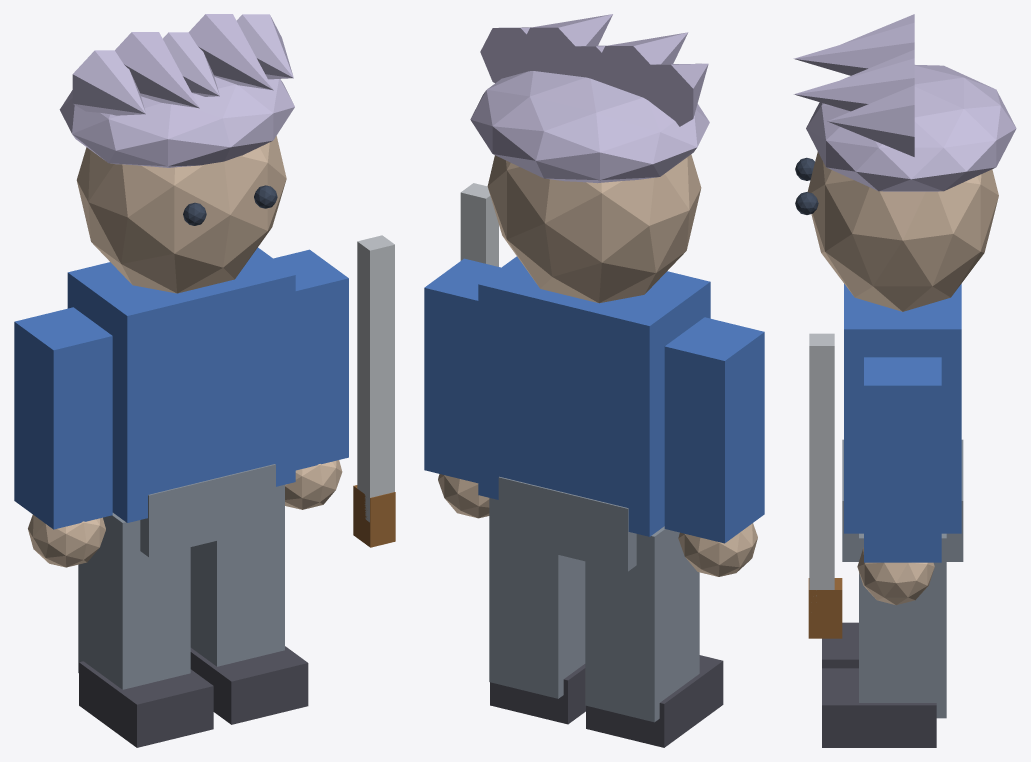
Rendered from trunks.glb.
3 renders of one model, left to right at view 1: azimuth 30°, elevation 25°; view 2: azimuth 150°, elevation 25°; view 3: azimuth 270°, elevation 25°, orthographic. The views are drawn at different scales.
Parts seen in each view (by area): view 1: part_000, part_010, part_002, part_004, part_013, part_008, part_006, part_020, part_001, part_005, part_009, part_014 (+7 smaller); view 2: part_000, part_010, part_002, part_013, part_004, part_008, part_006, part_001, part_005, part_017, part_015, part_014 (+6 smaller); view 3: part_010, part_006, part_013, part_000, part_008, part_020, part_009, part_018, part_015, part_017, part_007, part_019 (+3 smaller).
Part boxes in pixels (<box>): part_000: <box>67,247,295,522</box>; part_010: <box>76,136,286,293</box>; part_002: <box>14,307,112,529</box>; part_004: <box>78,513,190,689</box>; part_013: <box>59,76,294,167</box>; part_008: <box>190,484,284,666</box>; part_006: <box>273,249,348,470</box>; part_020: <box>357,235,394,522</box>; part_001: <box>140,464,275,557</box>; part_005: <box>79,661,213,747</box>; part_009: <box>190,646,308,724</box>; part_014: <box>72,50,145,115</box>; part_000: <box>478,256,710,536</box>; part_010: <box>487,154,701,303</box>; part_002: <box>664,317,764,543</box>; part_013: <box>470,71,709,183</box>; part_004: <box>585,526,699,722</box>; part_008: <box>489,498,585,698</box>; part_006: <box>424,258,500,483</box>; part_001: <box>498,476,636,571</box>; part_005: <box>586,655,723,747</box>; part_017: <box>518,14,612,76</box>; part_015: <box>593,32,688,102</box>; part_014: <box>630,63,708,126</box>; part_010: <box>807,151,998,311</box>; part_006: <box>864,357,941,562</box>; part_013: <box>806,65,1016,191</box>; part_000: <box>844,284,961,533</box>; part_008: <box>859,533,946,718</box>; part_020: <box>809,333,834,595</box>; part_009: <box>822,668,936,747</box>; part_018: <box>827,85,914,156</box>; part_015: <box>793,22,914,75</box>; part_017: <box>794,58,914,111</box>; part_007: <box>857,548,934,605</box>; part_019: <box>808,578,842,638</box>.
Size of the model in its own units: 1.08 by 2.17 by 0.6628.
